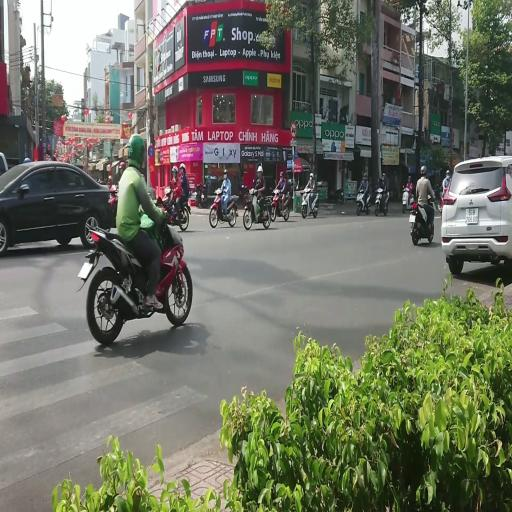bikes: (76, 204, 193, 345), (54, 136, 100, 165), (160, 188, 190, 232), (409, 197, 436, 245), (242, 187, 270, 229), (209, 188, 238, 228), (269, 188, 290, 222), (300, 187, 319, 218), (374, 185, 390, 216), (356, 187, 371, 215), (401, 184, 414, 213), (108, 183, 118, 217), (194, 182, 207, 208), (438, 185, 448, 214), (329, 188, 344, 204), (438, 189, 444, 213)
helmet: (127, 133, 145, 169), (164, 187, 172, 195), (156, 196, 163, 205), (110, 184, 116, 194), (179, 163, 186, 171), (420, 166, 426, 174), (119, 161, 125, 169), (172, 166, 178, 173), (256, 166, 262, 172), (215, 188, 221, 194), (407, 182, 412, 189), (379, 179, 384, 186), (223, 169, 228, 175), (24, 157, 30, 162), (287, 178, 292, 184), (378, 187, 383, 193), (431, 169, 435, 176), (310, 172, 314, 178), (363, 174, 367, 180), (274, 190, 280, 194), (280, 171, 283, 178), (108, 175, 112, 180), (434, 184, 438, 189), (382, 173, 385, 179), (410, 182, 413, 188), (405, 184, 409, 188), (446, 170, 449, 175), (408, 176, 411, 181), (403, 185, 406, 189)
